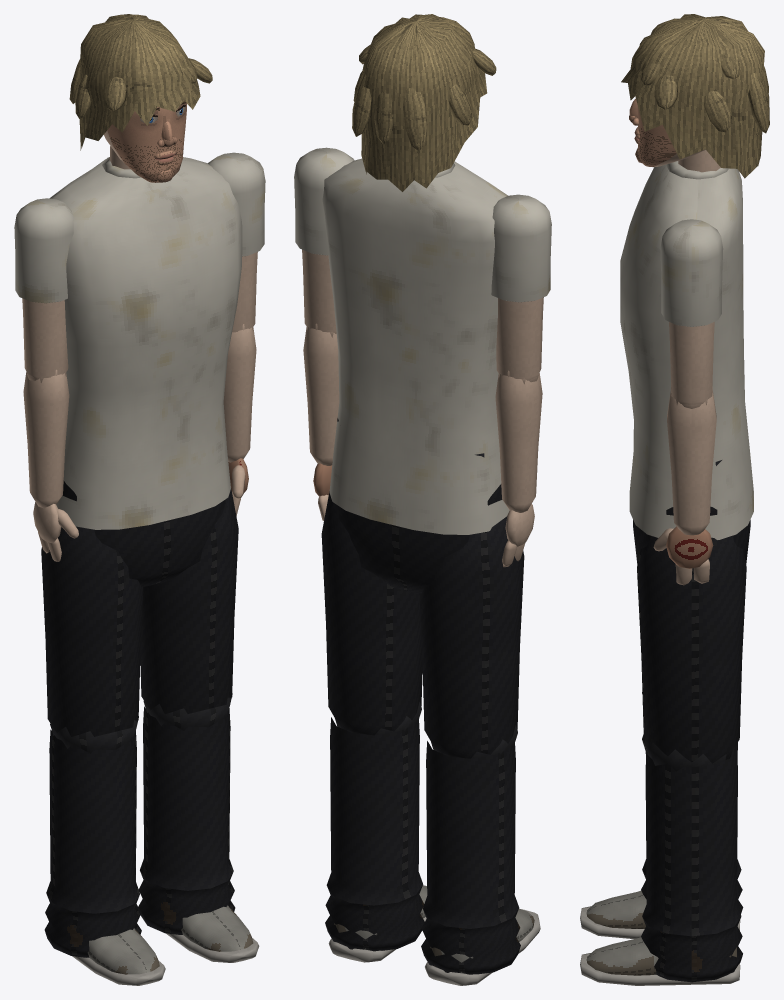
Rendered from char_alex.glb.
3 views of the same model, side by side, from view 1: azimuth 30°, elevation 25°; view 2: azimuth 150°, elevation 25°; view 3: azimuth 270°, elevation 25° (orthographic). The views are drawn at different scales.
Parts seen in each view (by area): view 1: Spine, ShinL, ShinR, ThighR, Head, ThighL, UpperArmR, Hips, ForearmR, UpperArmL, ForearmL, FootL (+3 smaller); view 2: Spine, ShinR, ShinL, ThighR, Head, ThighL, UpperArmR, Hips, UpperArmL, ForearmR, ForearmL, FootR (+3 smaller); view 3: Spine, ShinL, ThighL, Head, UpperArmL, ForearmL, FootL, FootR, HandL, Hips.
Boxes of the visible parts, x1=… form: Spine: x1=49, y1=157, x2=242, y2=529; ShinL: x1=138, y1=693, x2=235, y2=934; ShinR: x1=44, y1=716, x2=141, y2=957; ThighR: x1=41, y1=526, x2=143, y2=736; Head: x1=69, y1=14, x2=212, y2=182; ThighL: x1=140, y1=488, x2=238, y2=713; UpperArmR: x1=14, y1=198, x2=73, y2=379; Hips: x1=62, y1=480, x2=225, y2=586; ForearmR: x1=23, y1=369, x2=69, y2=508; UpperArmL: x1=208, y1=152, x2=265, y2=332; ForearmL: x1=223, y1=324, x2=256, y2=462; FootL: x1=166, y1=905, x2=259, y2=962; Spine: x1=322, y1=158, x2=509, y2=534; ShinR: x1=421, y1=725, x2=520, y2=974; ShinL: x1=325, y1=702, x2=424, y2=951; ThighR: x1=419, y1=516, x2=524, y2=758; Head: x1=352, y1=14, x2=496, y2=191; ThighL: x1=321, y1=491, x2=422, y2=735; UpperArmR: x1=491, y1=194, x2=551, y2=380; Hips: x1=335, y1=418, x2=502, y2=593; UpperArmL: x1=294, y1=147, x2=354, y2=333; ForearmR: x1=495, y1=370, x2=542, y2=512; ForearmL: x1=303, y1=323, x2=339, y2=465; FootR: x1=425, y1=908, x2=540, y2=985; Spine: x1=620, y1=161, x2=753, y2=539; ShinL: x1=641, y1=734, x2=742, y2=982; ThighL: x1=637, y1=535, x2=746, y2=763; Head: x1=621, y1=14, x2=769, y2=178; UpperArmL: x1=660, y1=219, x2=723, y2=404; ForearmL: x1=667, y1=387, x2=716, y2=535; FootL: x1=580, y1=937, x2=740, y2=985; FootR: x1=580, y1=890, x2=740, y2=938; HandL: x1=653, y1=526, x2=713, y2=585; Hips: x1=633, y1=460, x2=750, y2=564.
Bounding box in the file's own units: 0.52 × 1.88 × 0.3449.
Materials: 10 (10 with a texture image).
